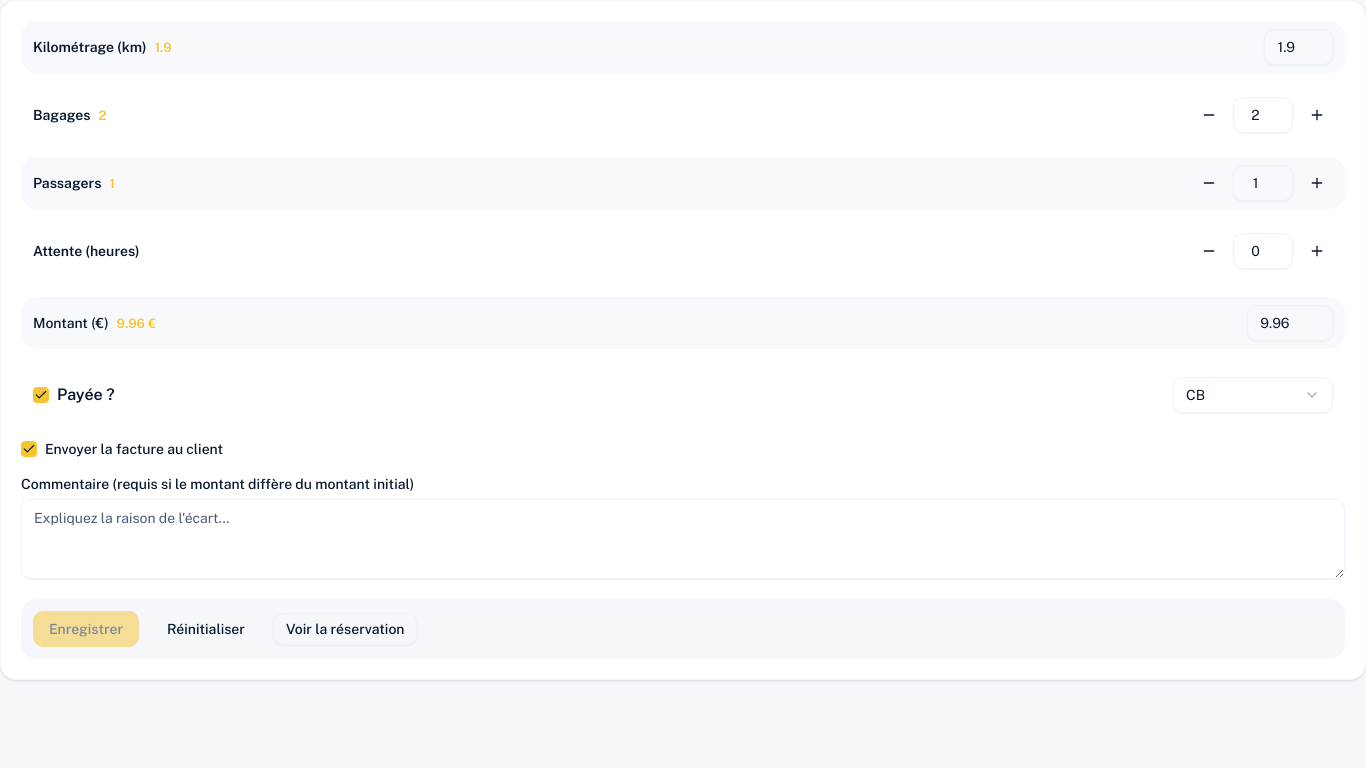
Test case: InvoiceEditForm › toggle l'affichage du résumé via le bouton
This screenshot has width=1366, height=768.
Expected: the field labelled "Résumé de la réservation" is not shown
Click the button "Voir la réservation".
click(345, 629)  # box [273, 613, 418, 645]
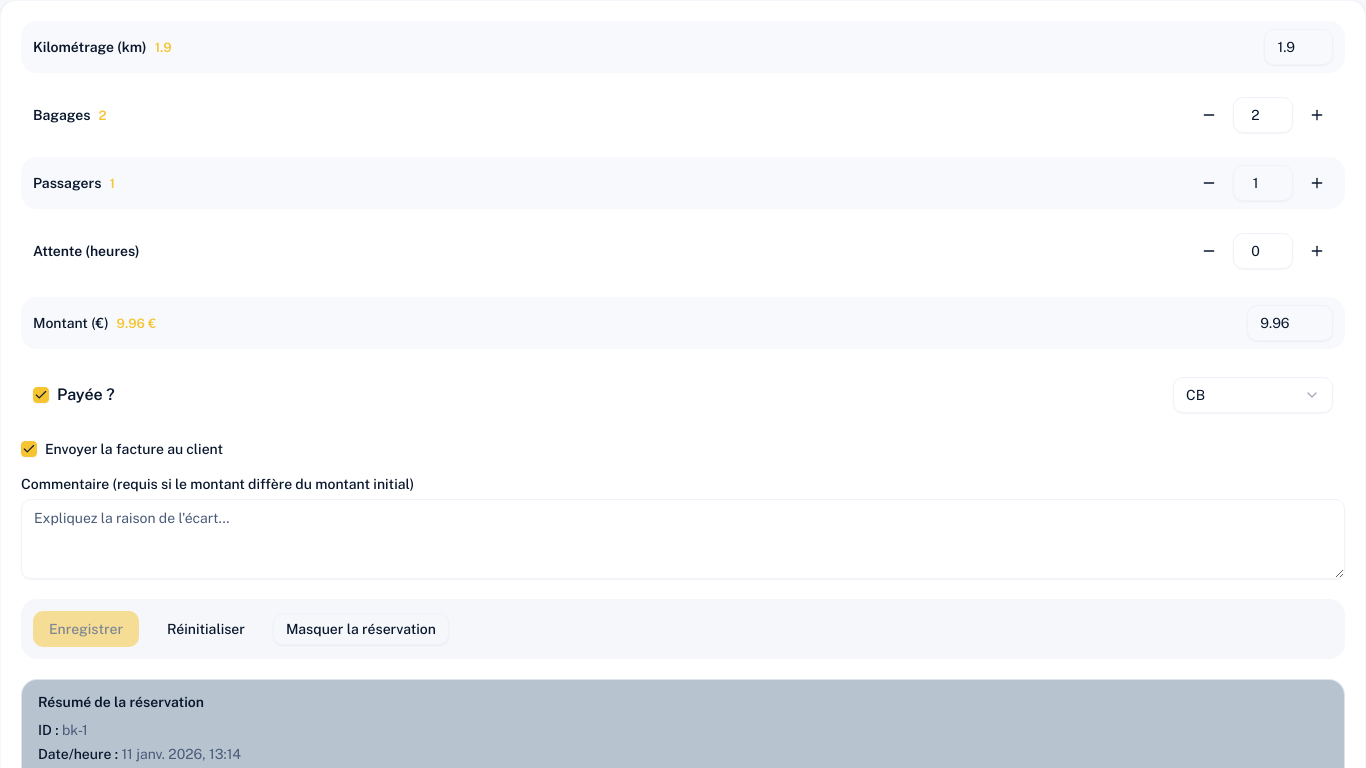
Click the button named "Voir la réservation".
click(361, 629)  # box [273, 613, 449, 645]
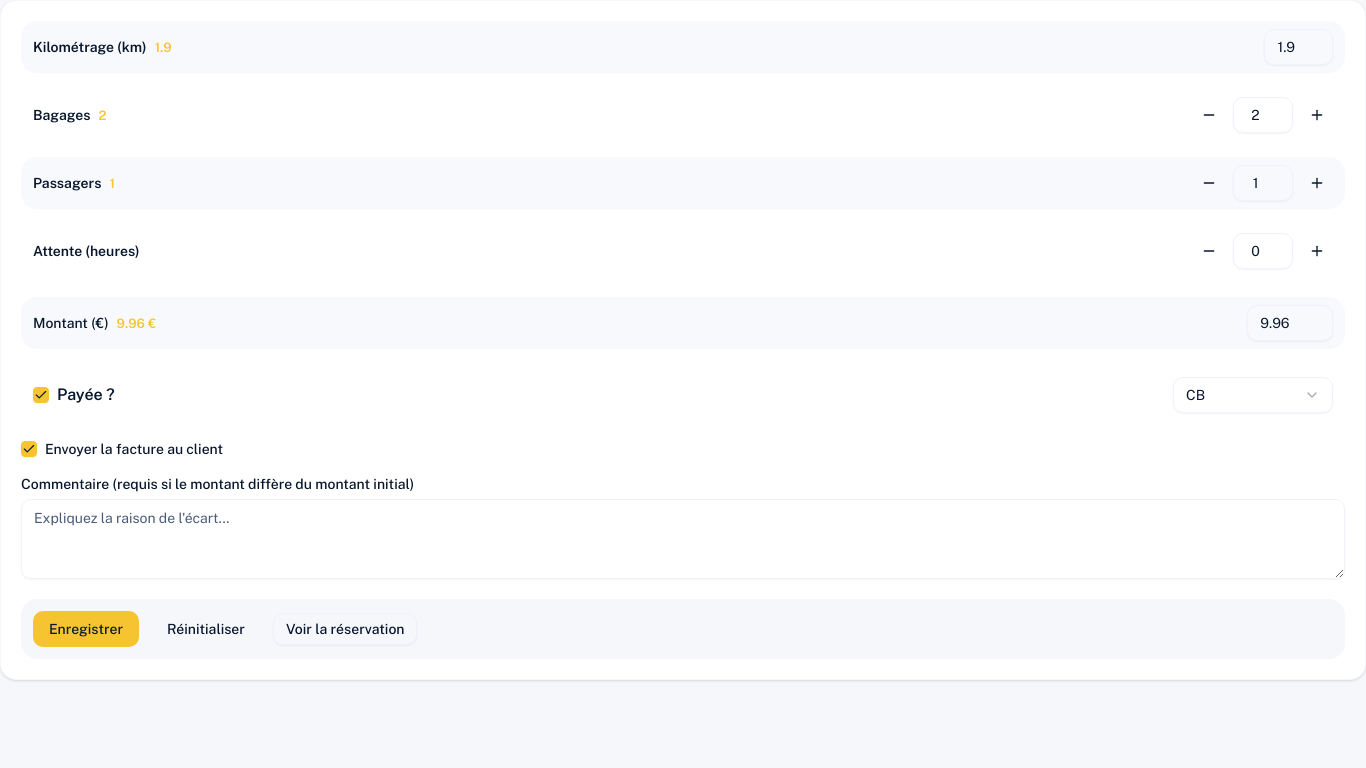
Now the text labelled "Résumé de la réservation" is gone
